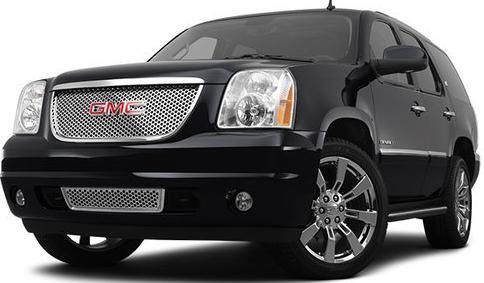front_view: (0, 69, 312, 258)
headlight: (217, 65, 319, 154)
side_glass: (347, 13, 466, 101)
